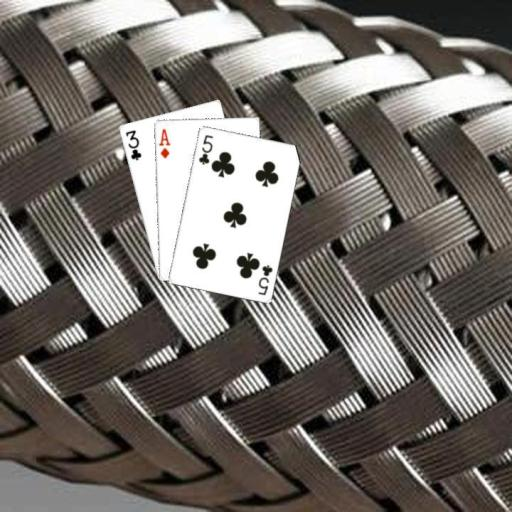3C: (122, 127, 143, 162)
5C: (255, 261, 274, 297), (196, 131, 214, 166)
AD: (156, 126, 171, 159)
